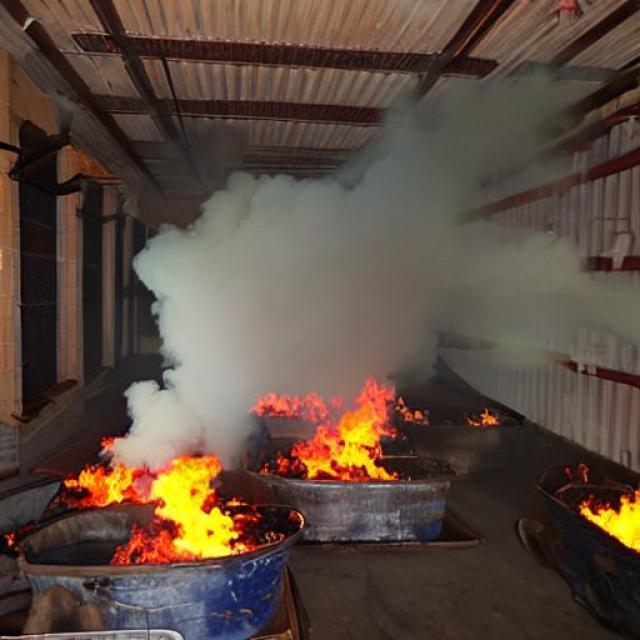Fire: (58, 451, 262, 566), (294, 386, 420, 484), (583, 478, 640, 556)
Smoke: (136, 71, 624, 434)
